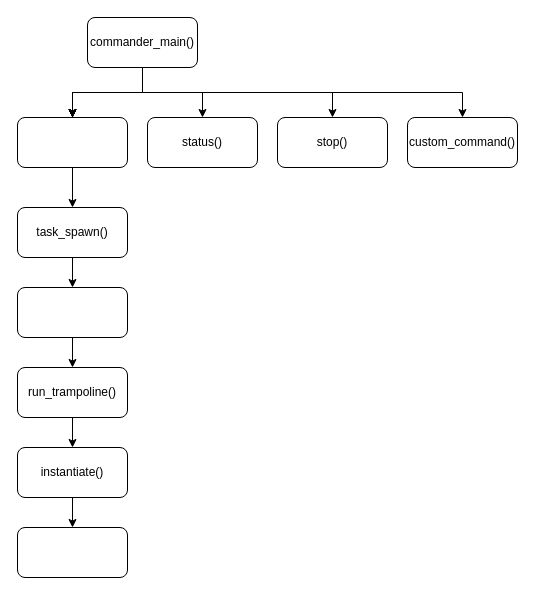
The diagram is 535 pixels wide and 595 high, and some of its shapes have lost their labels. Here are the shapes that lost their labels. From the top down, the centre of each, then its label:
pixel 72 142: start()
pixel 72 312: task_spawn_cmd()
pixel 72 552: run()
